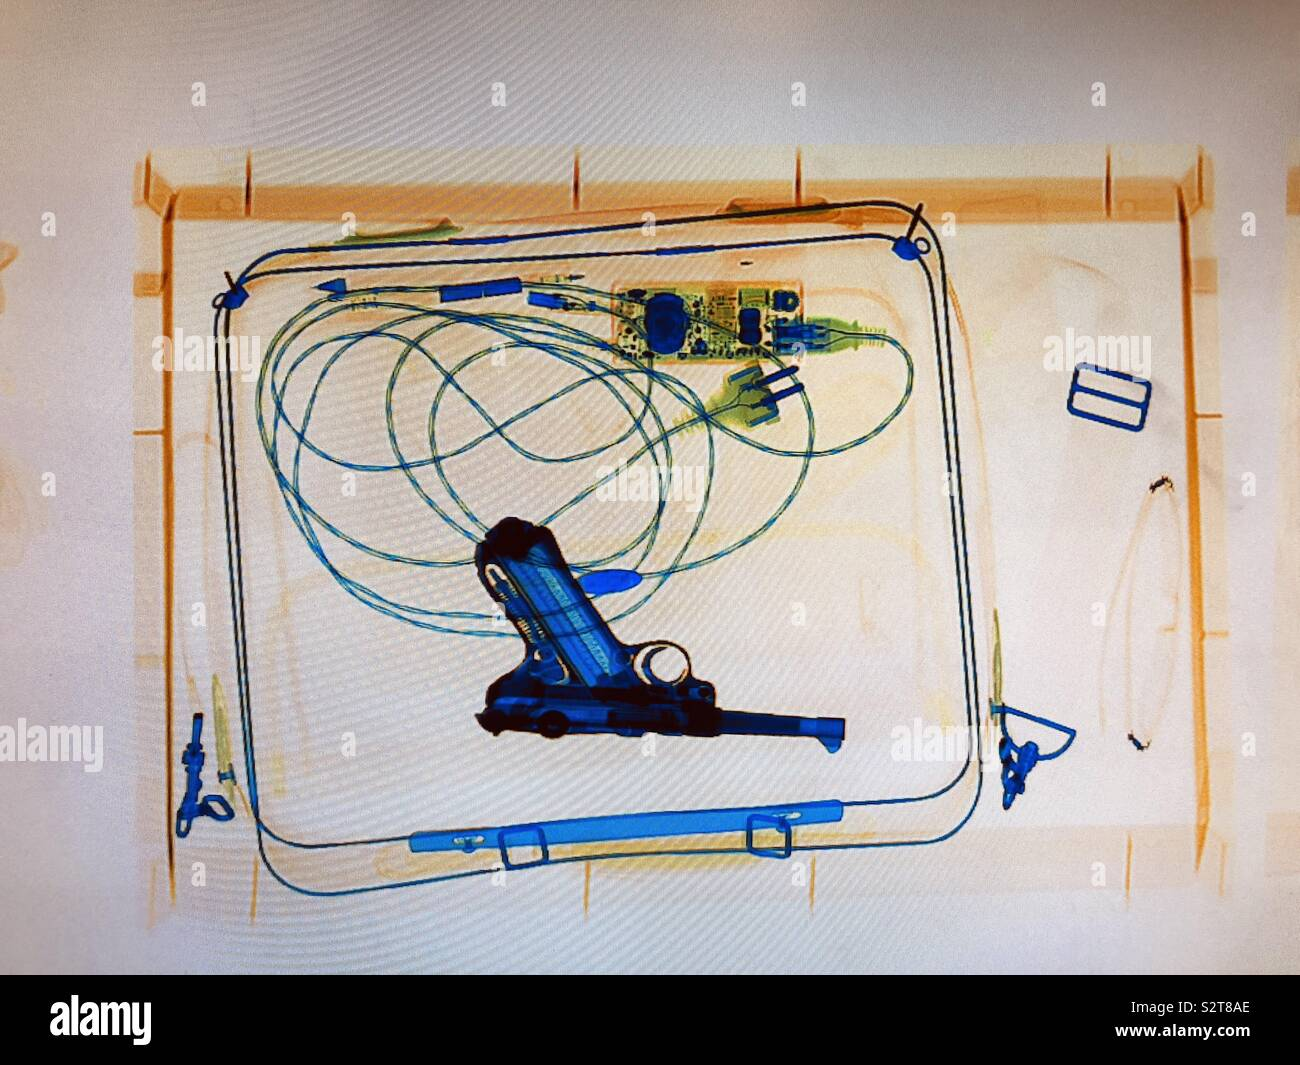gun: (464, 507, 867, 770)
